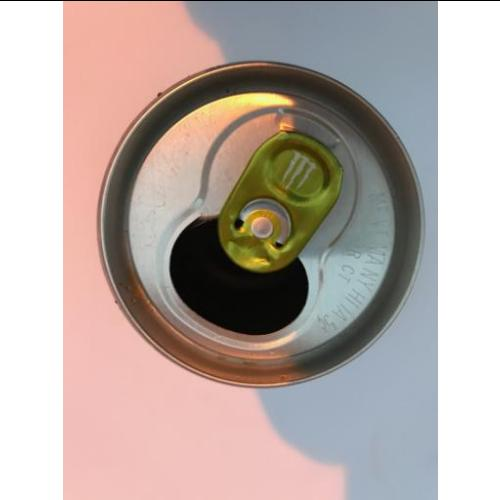metal: (96, 61, 422, 391)
